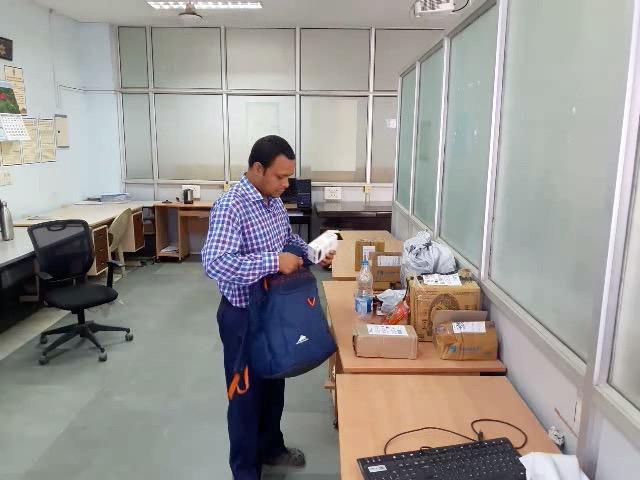shoplifting: (215, 221, 355, 399)
